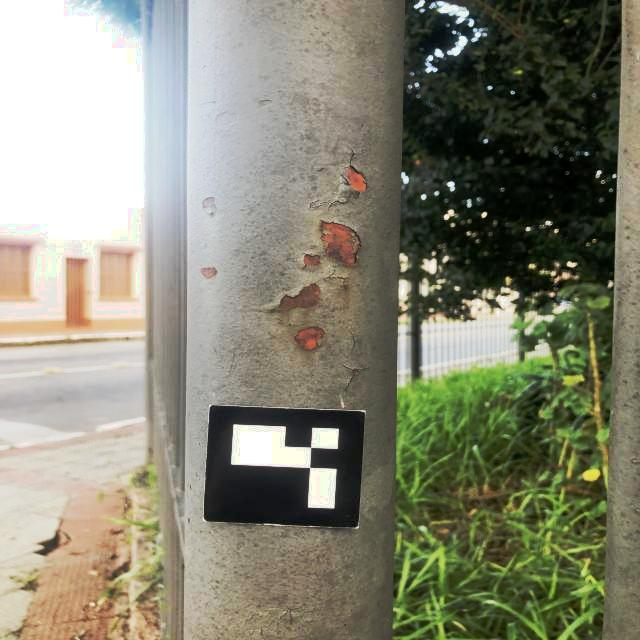Corrosion: (310, 145, 369, 210), (318, 220, 364, 266), (260, 282, 322, 313), (340, 362, 373, 392), (294, 327, 326, 350), (322, 270, 350, 292), (302, 251, 323, 270), (201, 195, 217, 215), (200, 266, 218, 279)
